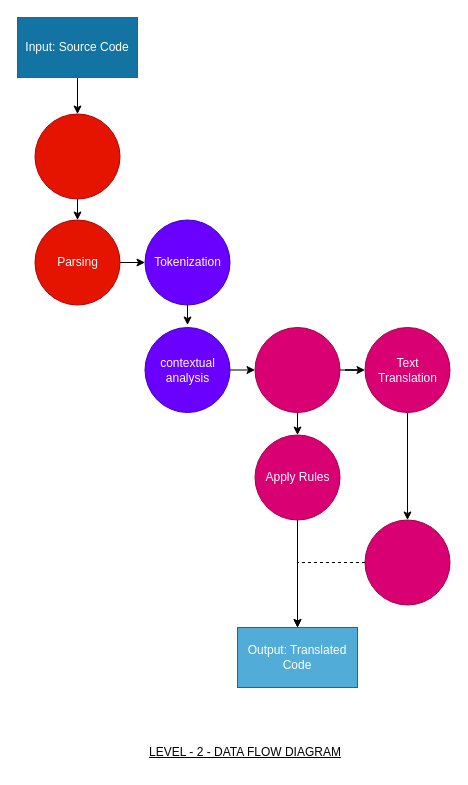
Some shapes in this 468 by 785 pixel diagram are drawn without their labels. The box of each missing label's shape, as (x1, y1, x2, y2) in pixels:
Extract elements: (34, 113, 120, 199)
Translate Elements: (254, 326, 340, 412)
Validate Correct Errors: (364, 519, 450, 605)
